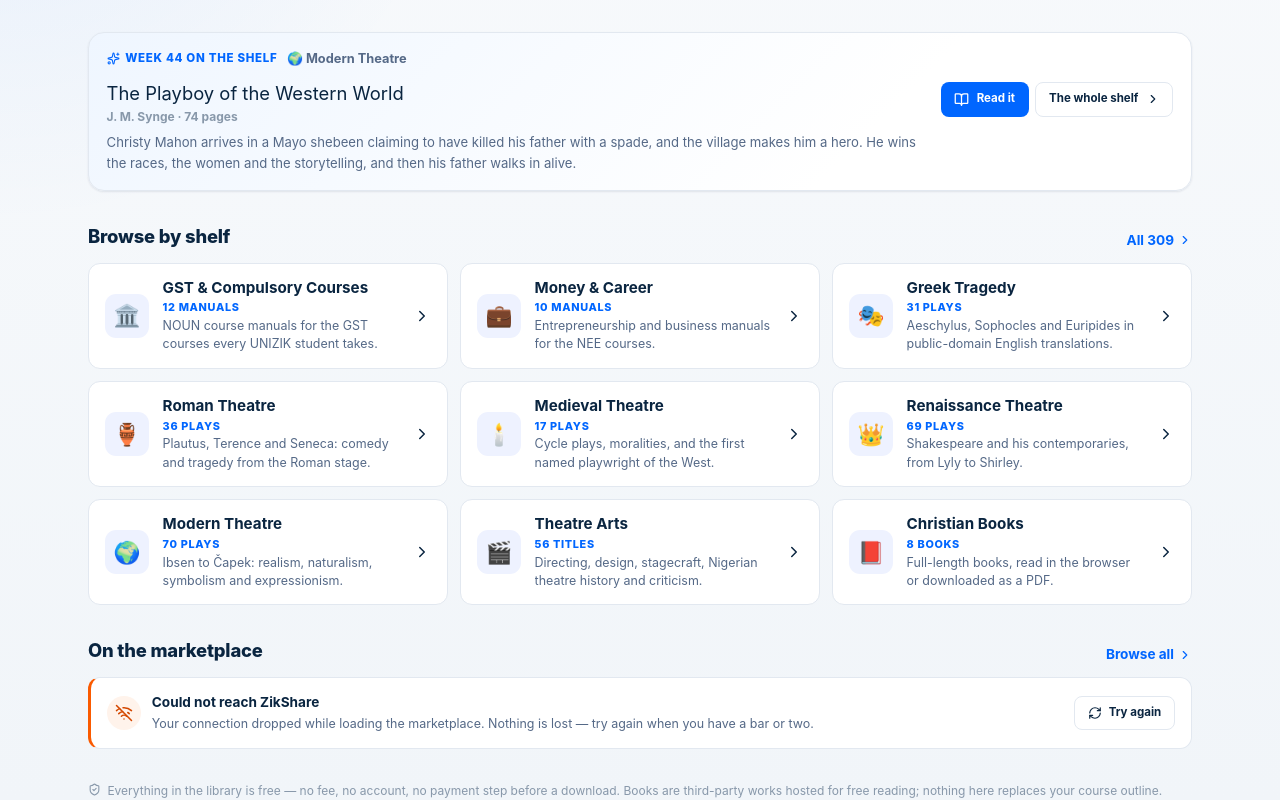
Test case: The landing page on a bad connection › offers a retry that really asks again, and shows the listing when it arrives
(page scrolled)
Click the button "Try again". click: (1124, 713)
box: [1074, 696, 1175, 730]
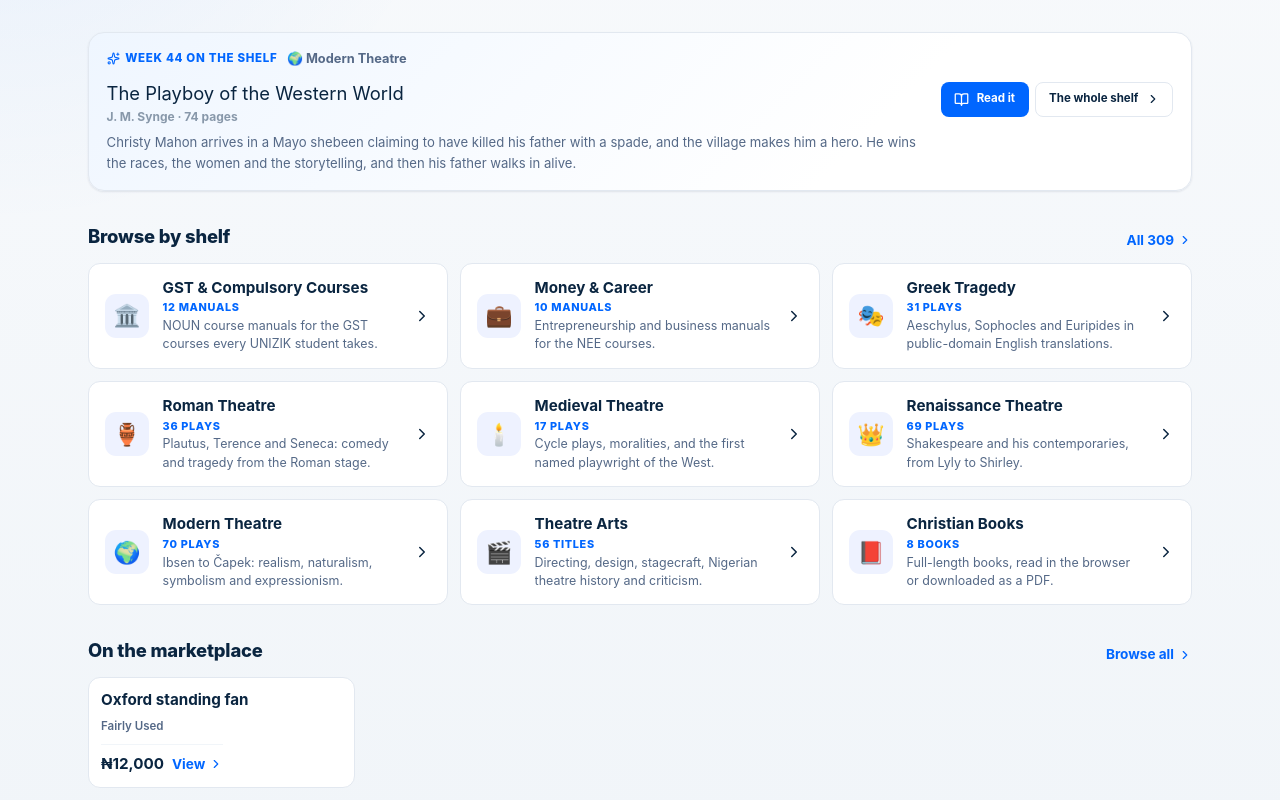
Result: the text "Oxford standing fan" is shown at [101, 690, 248, 710]
Result: the text "Could not reach ZikShare" is gone
